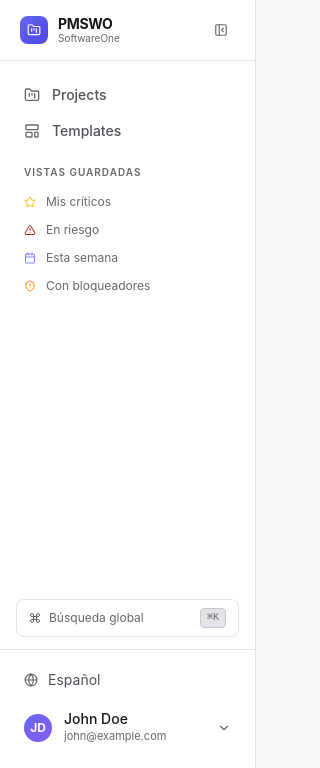
MainNav › opens profile dropdown when clicked
Click the button "JD John Doe john@example.com" at [128, 728], box left=12, top=704, right=243, bottom=752
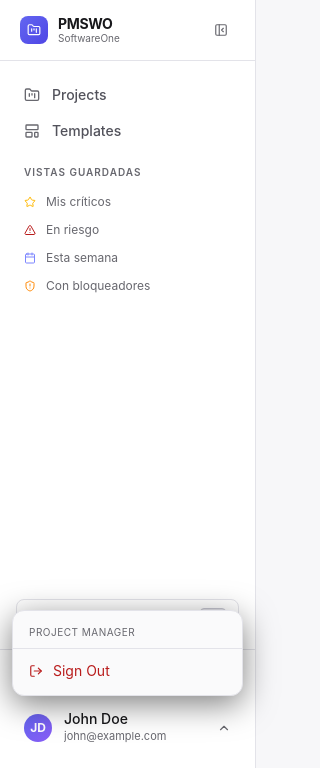
Check: the button "Sign Out" is shown, box left=13, top=652, right=242, bottom=688
